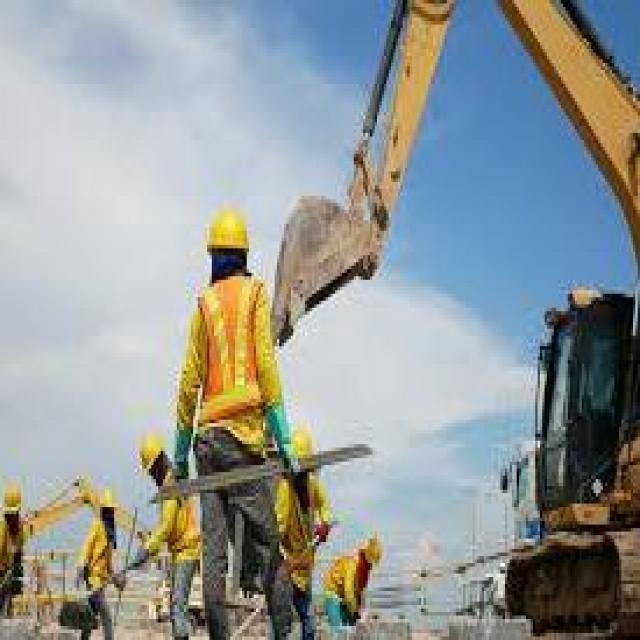Reflective-Jacket: (177, 269, 288, 458), (263, 468, 333, 602), (146, 472, 204, 577), (316, 549, 372, 630), (75, 514, 116, 602)
Safety-Helmet: (196, 192, 260, 270), (277, 406, 326, 482), (128, 416, 175, 483), (354, 525, 388, 577), (0, 472, 28, 525), (98, 483, 119, 513)
